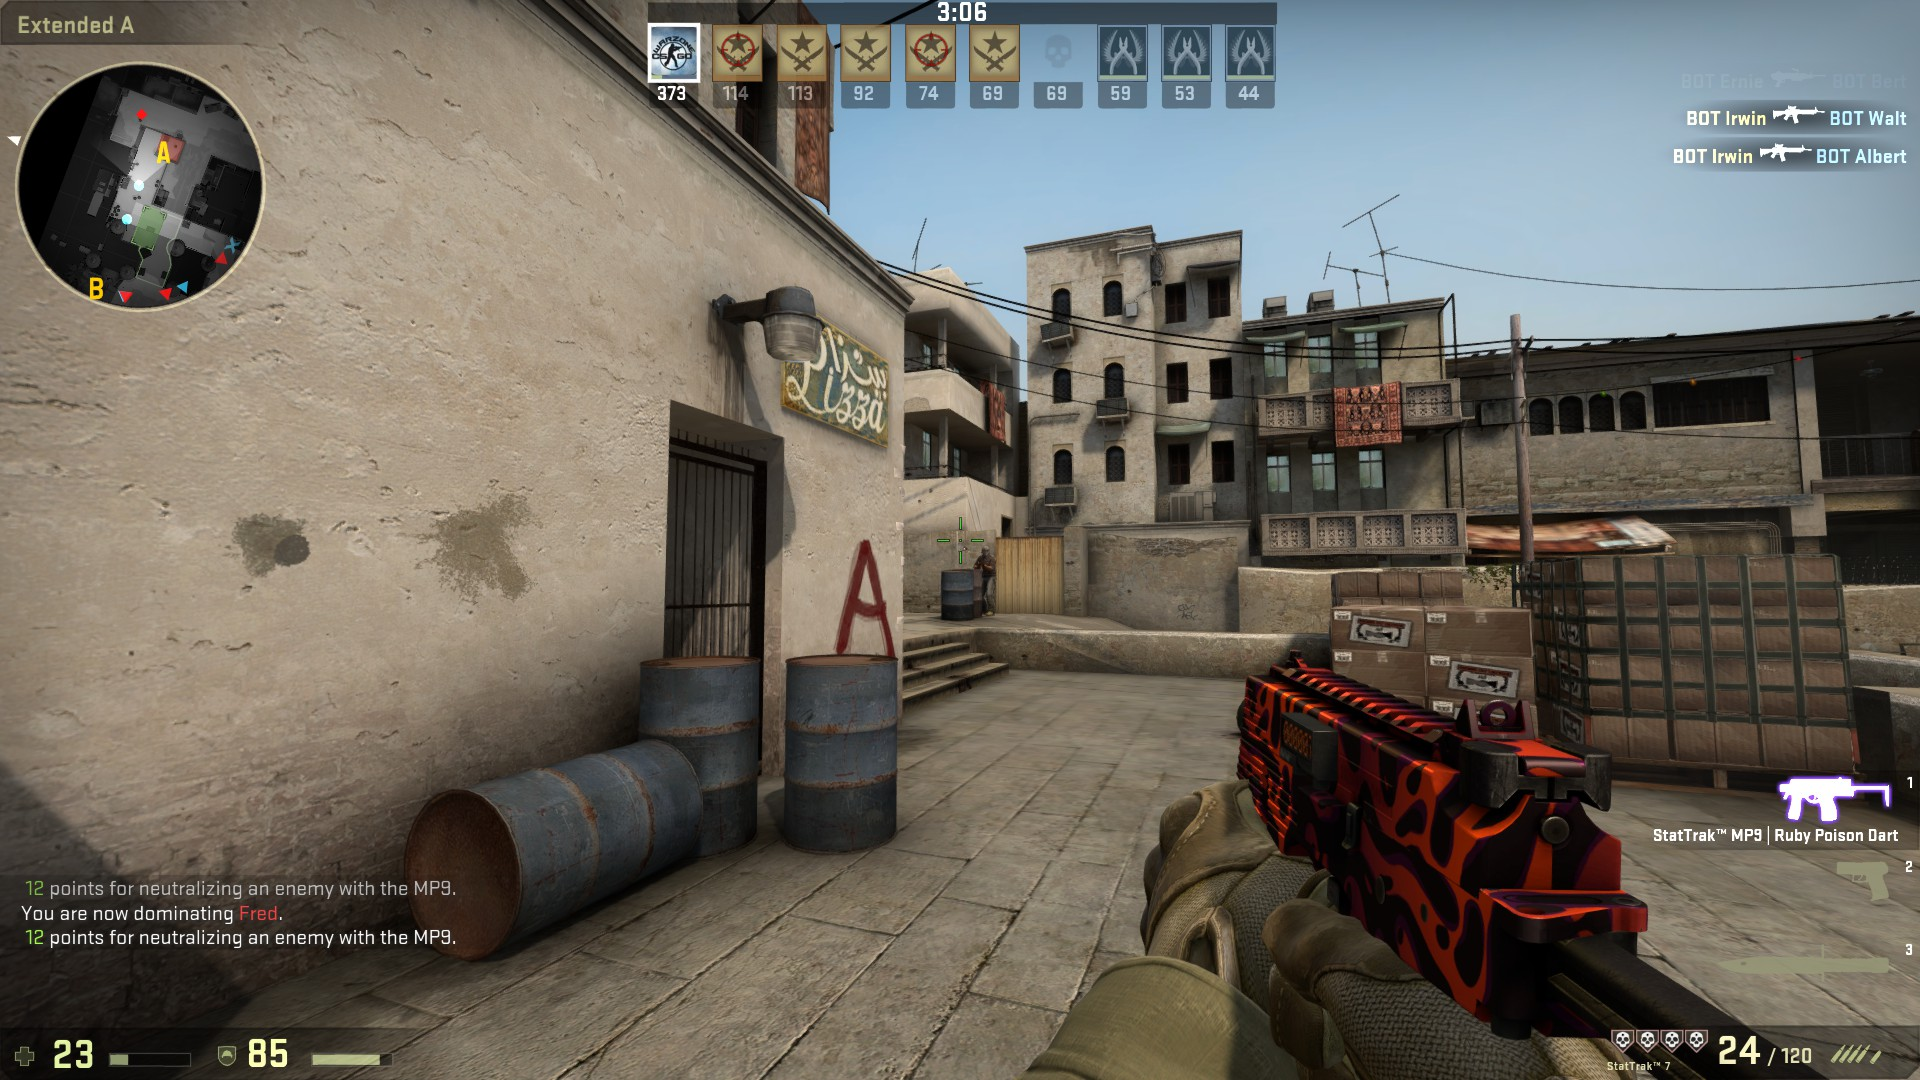t: (973, 545, 1000, 617)
th: (977, 545, 994, 558)
